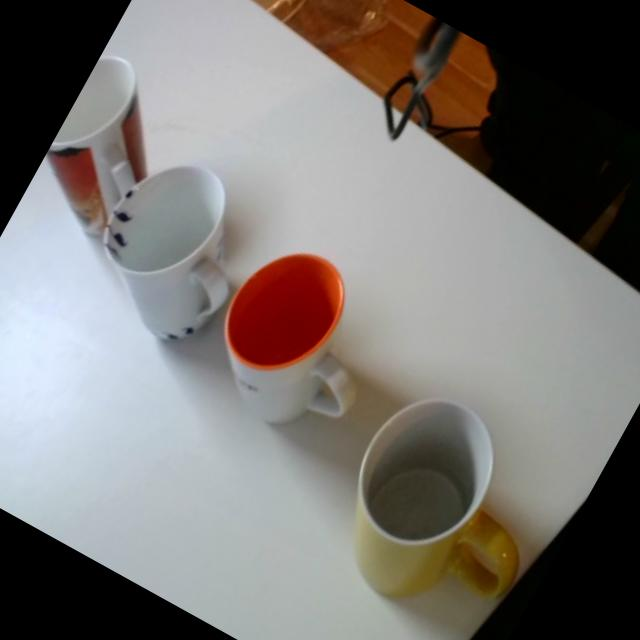Cocio Cup: (305, 369, 579, 640)
Halloween cup: (17, 46, 192, 254)
Hand painted cup: (66, 134, 279, 362)
White Cup: (186, 224, 412, 456)
